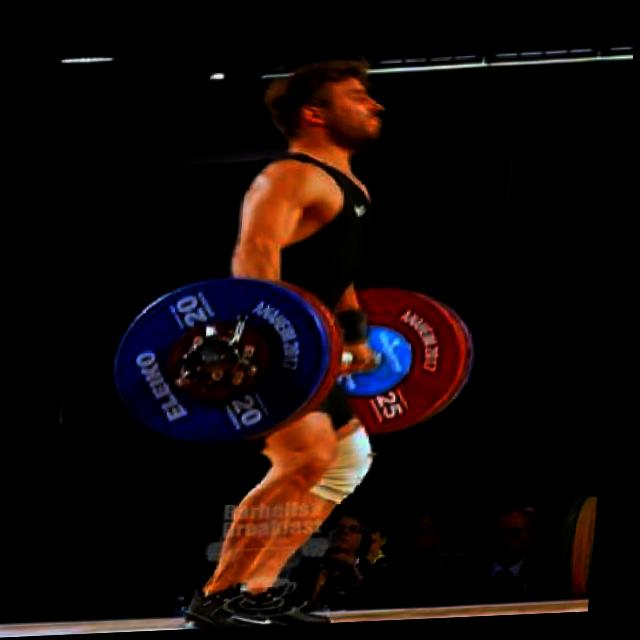barbell: (109, 270, 340, 454)
